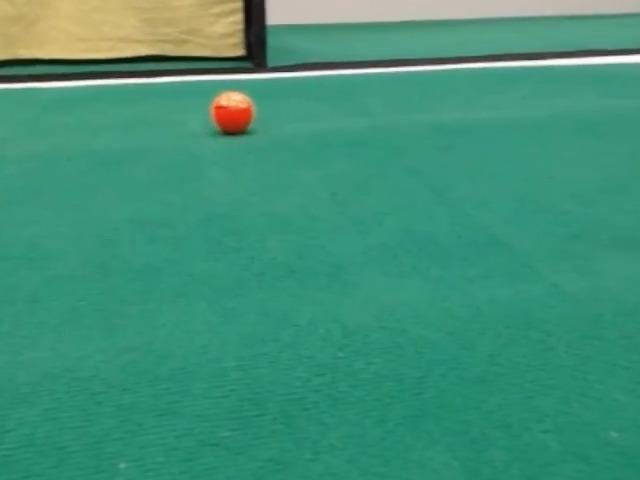Ball: (210, 91, 254, 134)
Yellow Goal: (0, 0, 266, 74)
